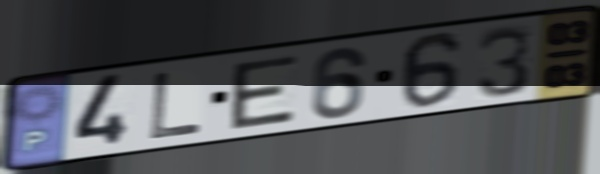3: (475, 23, 532, 101)
4: (70, 71, 138, 153)
6: (400, 30, 464, 111), (308, 44, 369, 121)
E: (229, 52, 301, 132)
L: (146, 69, 206, 142)
